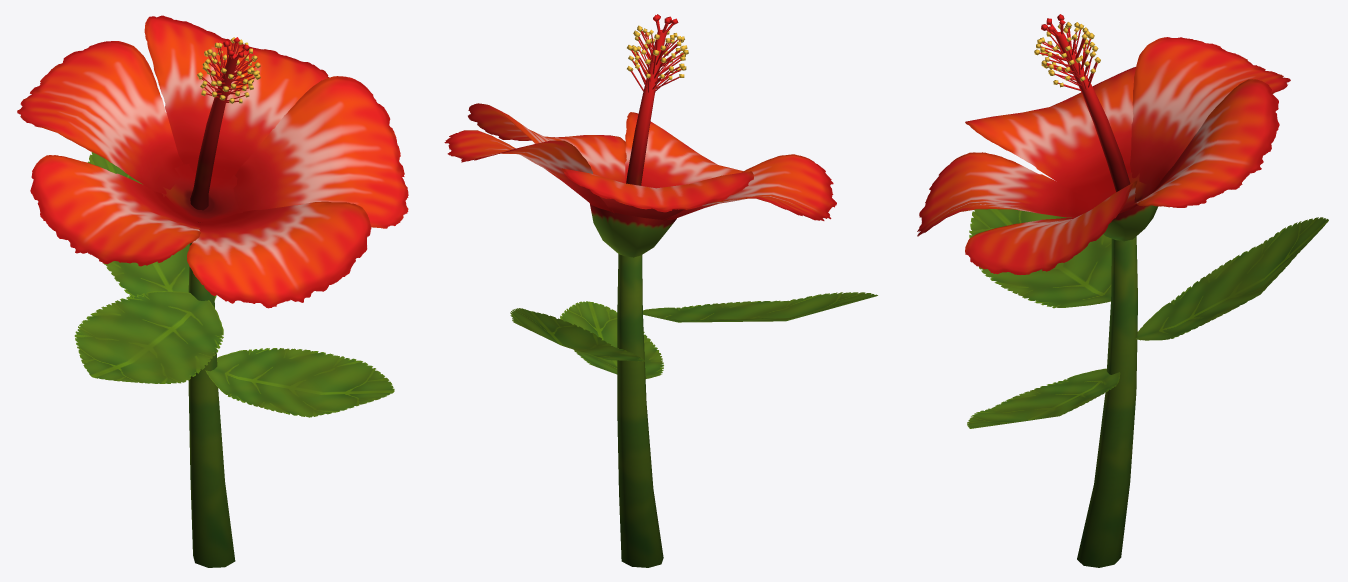
File: flor de maga.fbx
The picture shows the model from 3 angles, left to right: view 1: azimuth 30°, elevation 25°; view 2: azimuth 150°, elevation 25°; view 3: azimuth 270°, elevation 25°; orthographic projection. The views are drawn at different scales.
Visible parts, largest first — view 1: flor_de_maga; view 2: flor_de_maga; view 3: flor_de_maga.
Boxes of the visible parts, x1,y1,x2,y2 form: flor_de_maga: (17, 15, 408, 567); flor_de_maga: (444, 14, 877, 567); flor_de_maga: (917, 14, 1328, 567).
Size of the model in its own units: 4.28 by 6.06 by 4.25.
Materials: 1 (1 with a texture image).
